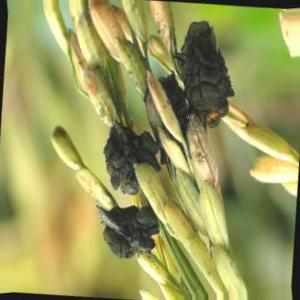Leaf_Scald: (181, 26, 223, 129), (110, 125, 146, 192), (100, 211, 146, 260)
